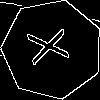X: (27, 24, 79, 67)
